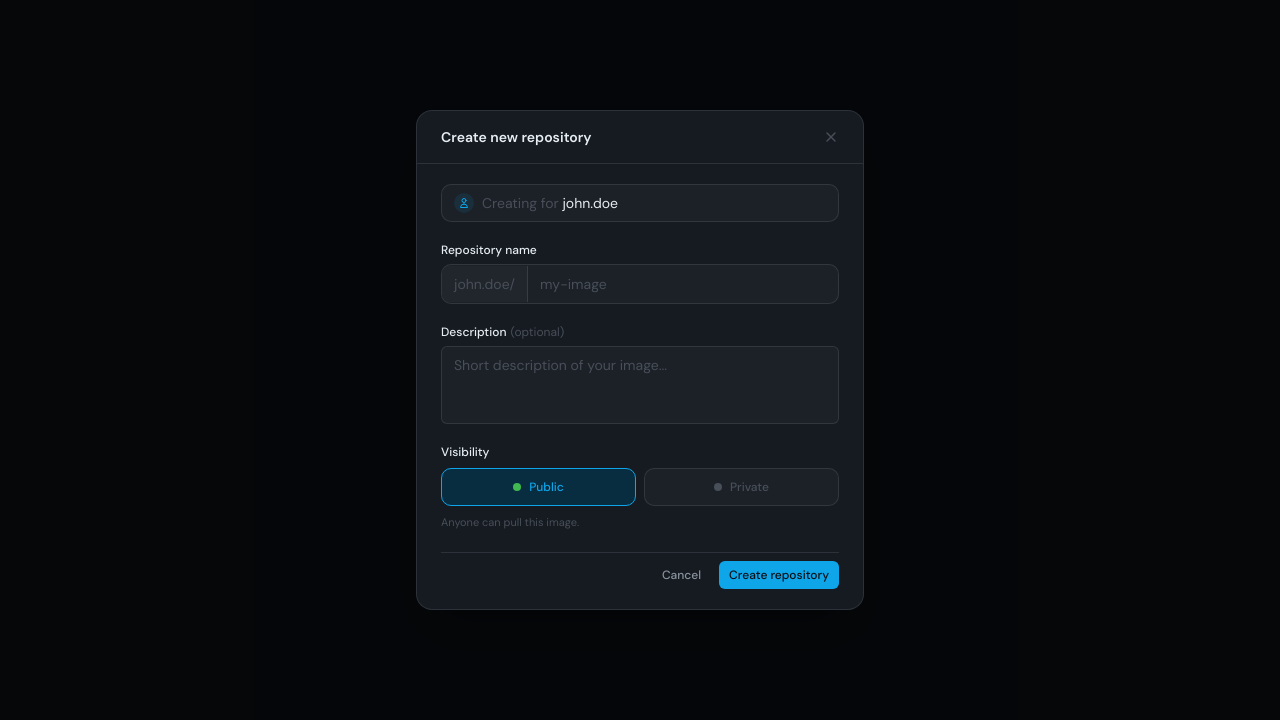
Test: CreateRepositoryModal › prikazuje gresku za prazan naziv
The image size is (1280, 720).
Step 1. Click the button "Create repository" → (779, 575), box left=719, top=561, right=839, bottom=589
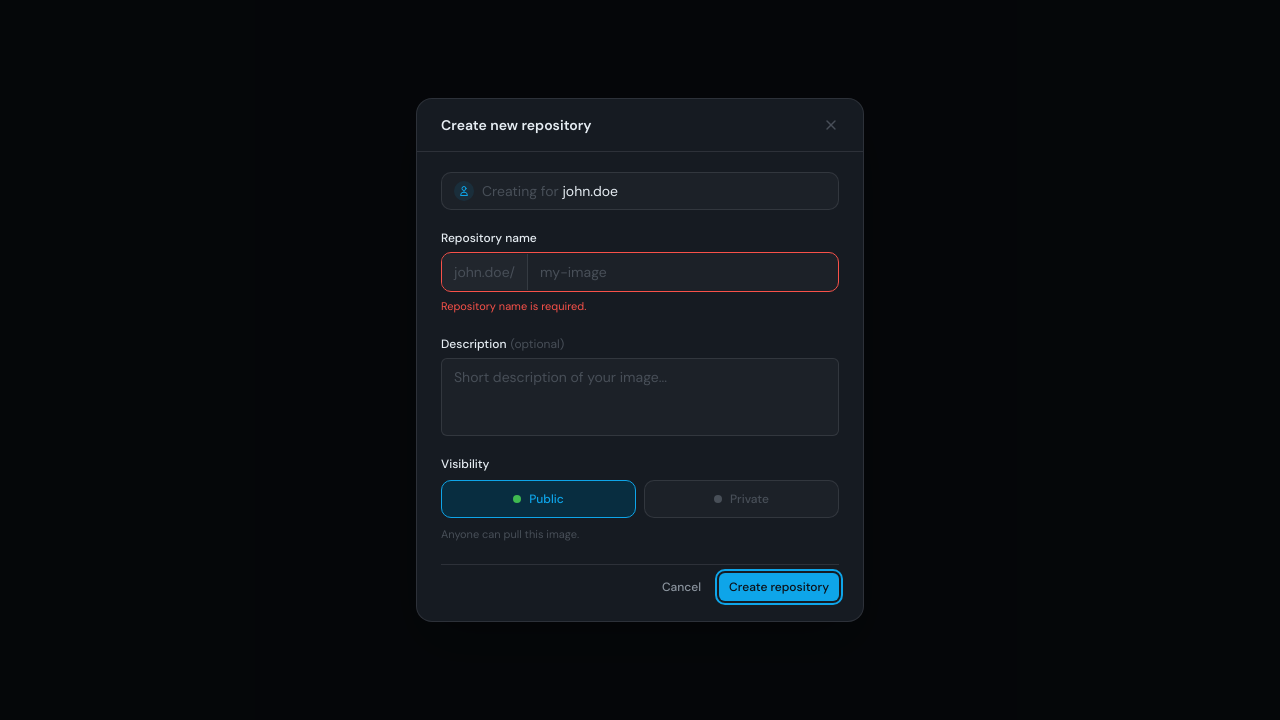
Expected: the text "Repository name is required." is shown, left=441, top=299, right=586, bottom=313
